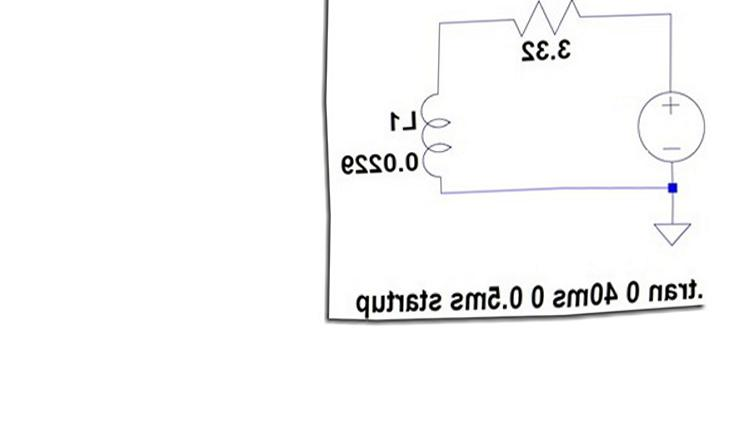Battery: (615, 74, 721, 178)
